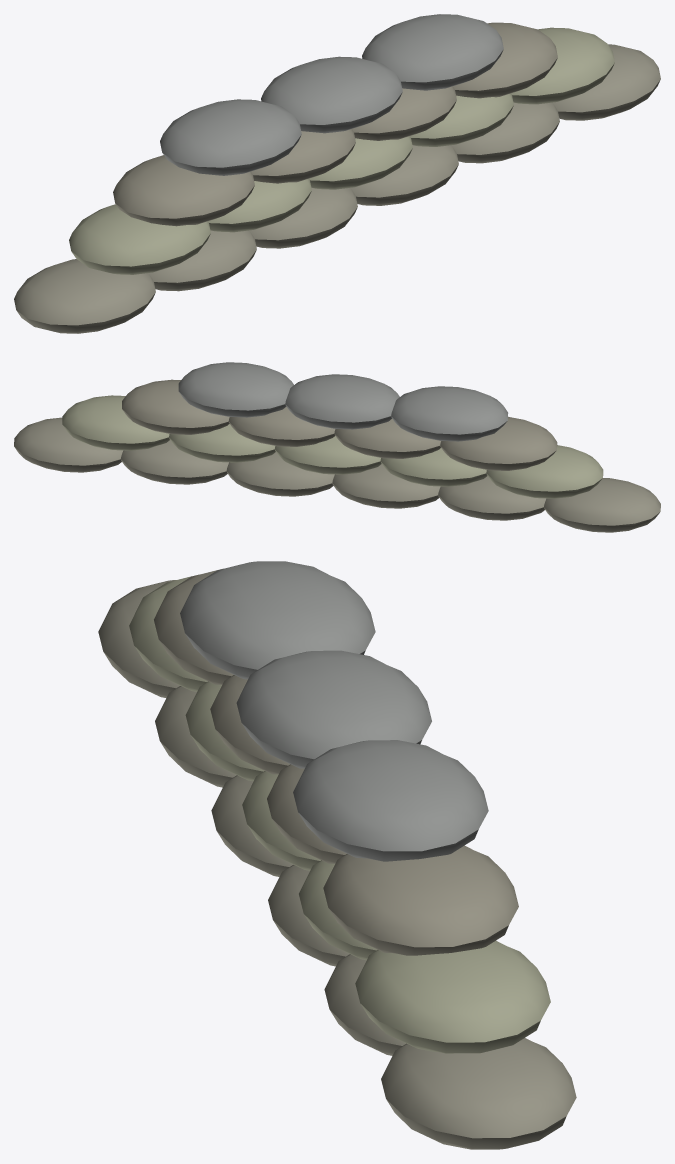
Rendered from Barricada.glb.
3 renders of one model, top to bottom at view 1: azimuth 30°, elevation 25°; view 2: azimuth 150°, elevation 25°; view 3: azimuth 270°, elevation 25°, orthographic. The views are drawn at different scales.
Parts seen in each view (by area): view 1: Cube.001, Cube.003, Cube, Cube.002; view 2: Cube.001, Cube.003, Cube, Cube.002; view 3: Cube.003, Cube.001, Cube, Cube.002.
Part boxes in pixels (x1=…): Cube.001: x1=14, y1=44, x2=660, y2=333; Cube.003: x1=160, y1=14, x2=503, y2=175; Cube: x1=69, y1=27, x2=614, y2=274; Cube.002: x1=113, y1=22, x2=557, y2=226; Cube.001: x1=14, y1=417, x2=660, y2=532; Cube.003: x1=178, y1=362, x2=508, y2=441; Cube: x1=62, y1=395, x2=603, y2=498; Cube.002: x1=122, y1=379, x2=557, y2=470; Cube.003: x1=180, y1=561, x2=488, y2=861; Cube.001: x1=98, y1=580, x2=576, y2=1149; Cube: x1=129, y1=574, x2=550, y2=1053; Cube.002: x1=154, y1=569, x2=518, y2=955.
Size of the model in its own units: 9.66 by 1.82 by 3.57.
